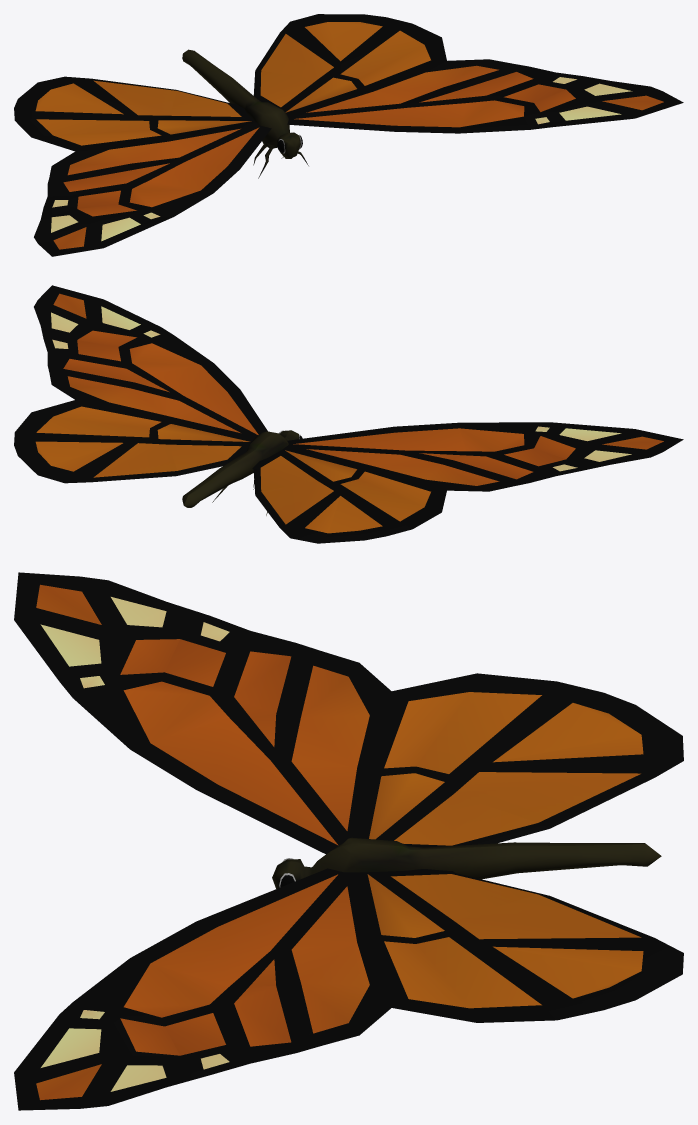
Rendered from animals-flyinginsects-monarchbutterfly_v1.glb.
3 views of the same model, one above another, from view 1: azimuth 30°, elevation 25°; view 2: azimuth 150°, elevation 25°; view 3: azimuth 270°, elevation 25° (orthographic). The views are drawn at different scales.
Parts seen in each view (by area): view 1: MonarchButterfly.001; view 2: MonarchButterfly.001; view 3: MonarchButterfly.001.
Part boxes in pixels (x1,y1,x2,y2): MonarchButterfly.001: (14,14,683,256); MonarchButterfly.001: (14,285,683,543); MonarchButterfly.001: (14,572,683,1110).
Bounding box in the file's own units: 0.9506 × 0.0831 × 0.5002.
